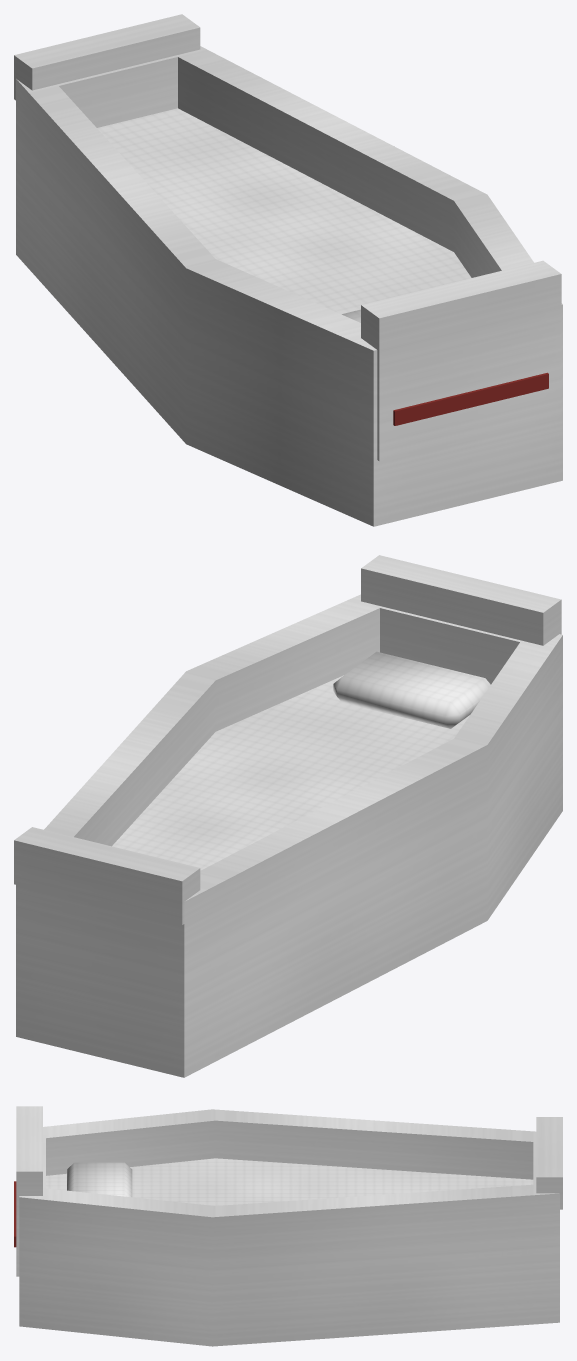
Rendered from deathrest_casket.obj.
3 renders of one model, top to bottom at view 1: azimuth 30°, elevation 25°; view 2: azimuth 150°, elevation 25°; view 3: azimuth 270°, elevation 25°, orthographic. The views are drawn at different scales.
Visible parts, largest first — view 1: source_component_001, source_component_000, source_component_002, source_component_004, source_component_006, source_component_005; view 2: source_component_001, source_component_000, source_component_002, source_component_006, source_component_004, source_component_003; view 3: source_component_001, source_component_000, source_component_002, source_component_004, source_component_006, source_component_003.
Part boxes in pixels (x1,y1,x2,y2): source_component_001: (16,46,562,460); source_component_000: (16,189,562,526); source_component_002: (97,108,471,314); source_component_004: (361,260,561,461); source_component_006: (14,14,200,100); source_component_005: (393,372,548,425); source_component_001: (16,594,562,1011); source_component_000: (16,745,562,1077); source_component_002: (112,675,469,870); source_component_006: (14,827,200,925); source_component_004: (361,555,561,645); source_component_003: (333,651,490,728); source_component_001: (19,1109,559,1297); source_component_000: (19,1274,559,1346); source_component_002: (46,1158,533,1205); source_component_004: (16,1106,42,1276); source_component_006: (536,1117,562,1209); source_component_003: (67,1162,132,1197).
Size of the model in its own units: 0.86 by 0.57 by 1.85.
